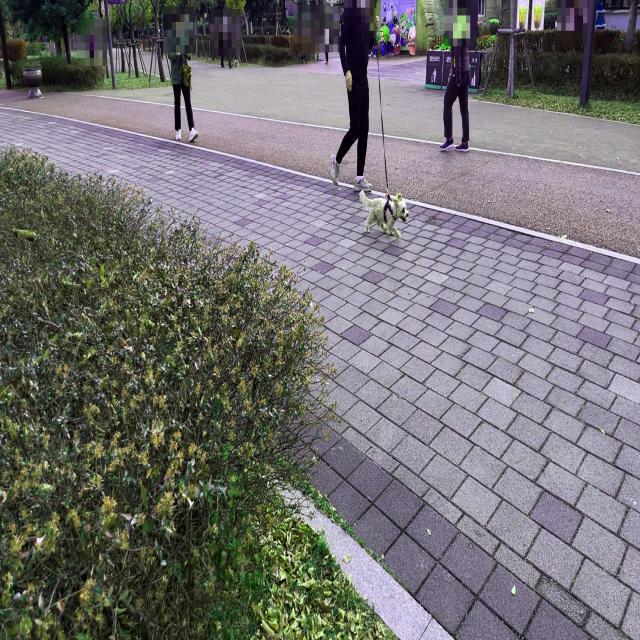Leashed_Dog: (358, 12, 409, 239)
